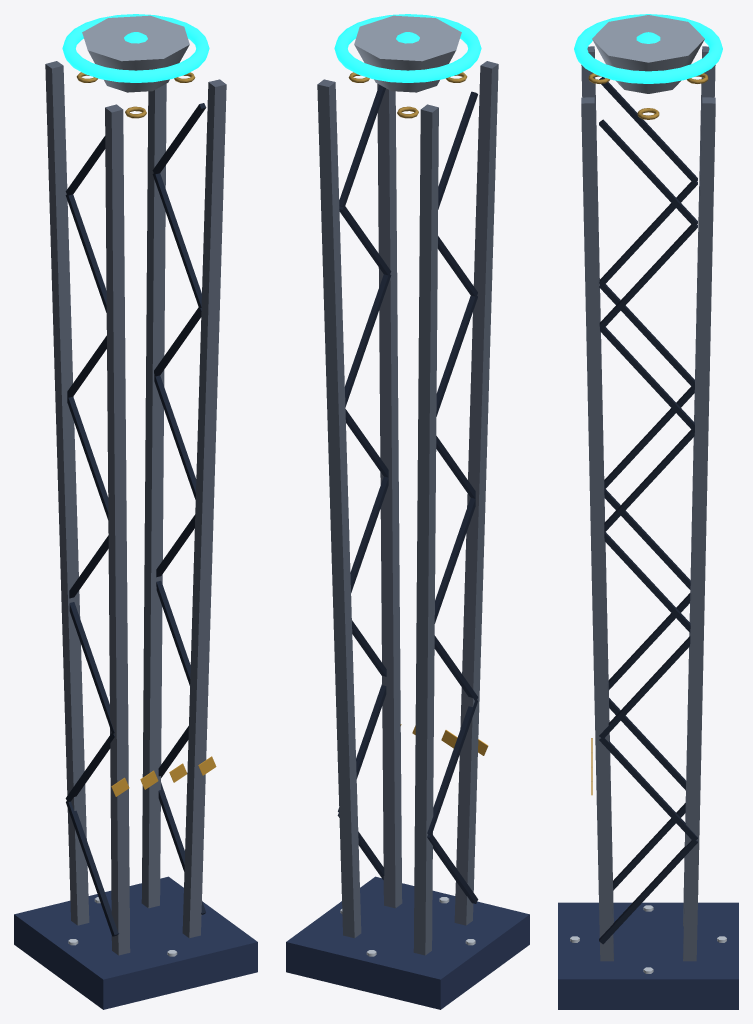
The model's file is shared_airlane_pylon.glb.
3 views of the same model, side by side, from view 1: azimuth 30°, elevation 25°; view 2: azimuth 150°, elevation 25°; view 3: azimuth 270°, elevation 25° (orthographic).
Visible parts, largest first — view 1: pylon_base, pylon_leg11, pylon_leg-11, pylon_leg-1-1, pylon_leg1-1, pylon_head, pylon_beacon, pylon_brace0-1, pylon_brace61, pylon_brace2-1, pylon_brace41, pylon_brace4-1 (+8 smaller); view 2: pylon_base, pylon_leg1-1, pylon_leg-1-1, pylon_leg-11, pylon_leg11, pylon_head, pylon_beacon, pylon_brace1-1, pylon_brace51, pylon_brace71, pylon_brace3-1, pylon_brace5-1 (+8 smaller); view 3: pylon_base, pylon_leg1-1, pylon_leg11, pylon_head, pylon_beacon, pylon_leg-11, pylon_leg-1-1, pylon_brace71, pylon_brace61, pylon_brace01, pylon_brace51, pylon_brace11 (+11 smaller).
Part boxes in pixels (<box>): pylon_base: <box>14,876,257,1009</box>; pylon_leg11: <box>182,79,226,938</box>; pylon_leg-11: <box>105,104,130,955</box>; pylon_leg-1-1: <box>45,61,89,925</box>; pylon_leg1-1: <box>141,83,166,908</box>; pylon_head: <box>82,15,189,92</box>; pylon_beacon: <box>62,14,209,82</box>; pylon_brace0-1: <box>66,801,119,936</box>; pylon_brace61: <box>152,172,201,307</box>; pylon_brace2-1: <box>69,602,114,733</box>; pylon_brace41: <box>154,375,196,499</box>; pylon_brace4-1: <box>67,396,108,519</box>; pylon_base: <box>286,876,529,1009</box>; pylon_leg1-1: <box>317,79,361,938</box>; pylon_leg-1-1: <box>413,104,438,955</box>; pylon_leg-11: <box>454,61,498,925</box>; pylon_leg11: <box>377,83,402,908</box>; pylon_head: <box>354,15,461,92</box>; pylon_beacon: <box>334,14,481,82</box>; pylon_brace1-1: <box>427,700,477,835</box>; pylon_brace51: <box>345,274,391,407</box>; pylon_brace71: <box>339,85,385,207</box>; pylon_brace3-1: <box>434,498,475,623</box>; pylon_brace5-1: <box>436,295,477,416</box>; pylon_base: <box>558,902,738,1009</box>; pylon_leg1-1: <box>683,97,715,961</box>; pylon_leg11: <box>581,97,613,961</box>; pylon_head: <box>592,15,704,93</box>; pylon_beacon: <box>574,14,722,83</box>; pylon_leg-11: <box>581,46,613,923</box>; pylon_leg-1-1: <box>683,46,715,926</box>; pylon_brace71: <box>599,119,697,226</box>; pylon_brace61: <box>599,224,697,328</box>; pylon_brace01: <box>599,839,697,944</box>; pylon_brace51: <box>600,327,694,431</box>; pylon_brace11: <box>599,737,697,841</box>.
Size of the model in its own units: 1.6 by 9.15 by 1.6.
